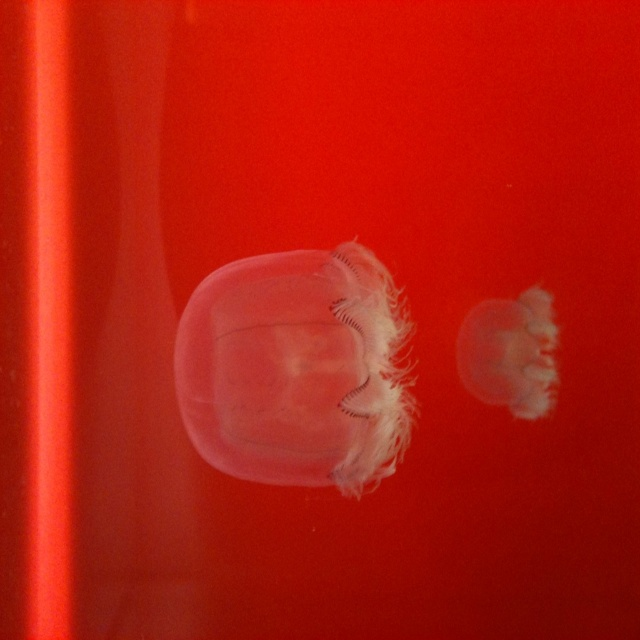Jellyfish: (172, 232, 419, 500), (454, 289, 561, 425)
